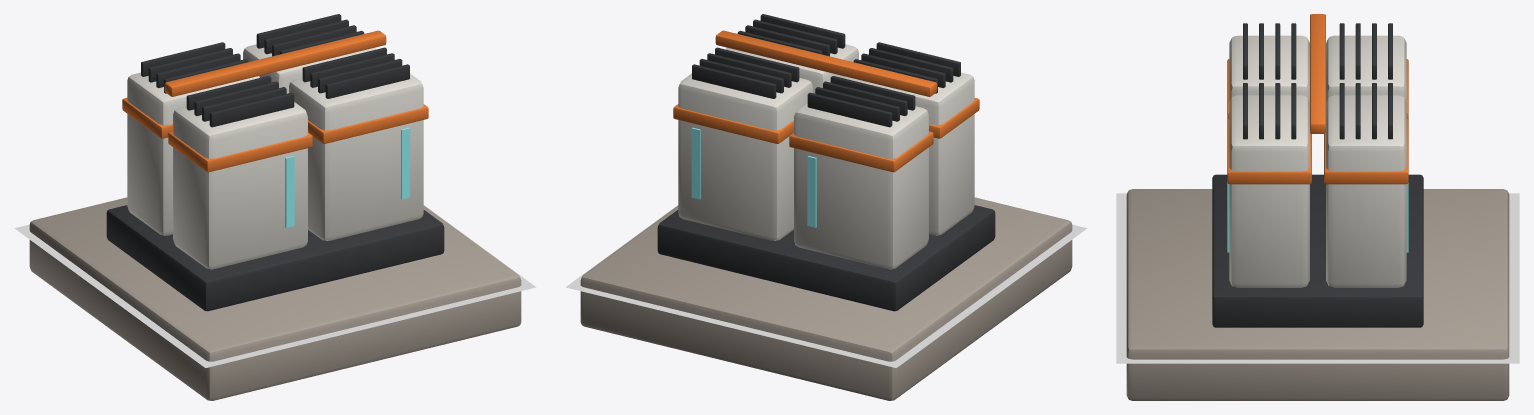
The model's file is battery_1x1.gltf.
3 views of the same model, side by side, from view 1: azimuth 30°, elevation 25°; view 2: azimuth 150°, elevation 25°; view 3: azimuth 270°, elevation 25° (orthographic). The views are drawn at different scales.
Visible parts, largest first — view 1: Battery, %P%Footprint; view 2: Battery, %P%Footprint; view 3: Battery, %P%Footprint.
Part boxes in pixels (x1,y1,x2,y2): Battery: (29, 14, 521, 400); %P%Footprint: (14, 205, 536, 367); Battery: (580, 14, 1072, 400); %P%Footprint: (565, 205, 1087, 367); Battery: (1126, 14, 1509, 400); %P%Footprint: (1116, 193, 1519, 363).
Bounding box in the file's own units: 2 × 1.39 × 2.
